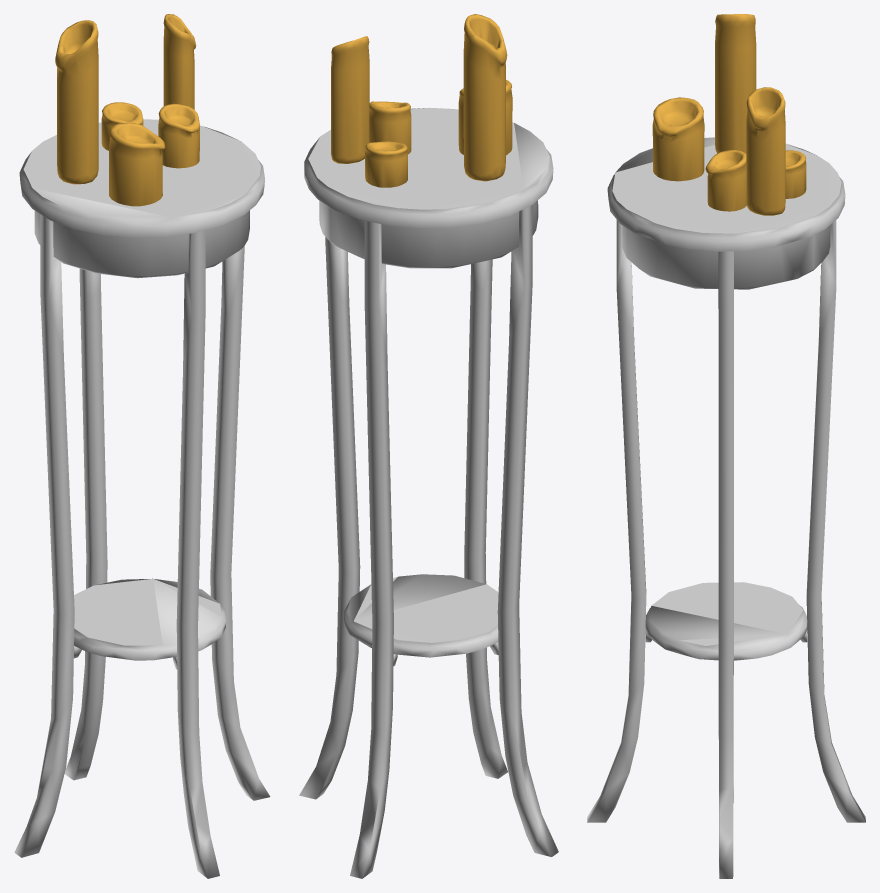
The model's file is PriesteraGalds.fbx.
The picture shows the model from 3 angles, left to right: view 1: azimuth 30°, elevation 25°; view 2: azimuth 150°, elevation 25°; view 3: azimuth 270°, elevation 25°; orthographic projection. The views are drawn at different scales.
Visible parts, largest first — view 1: Cube.005; view 2: Cube.005; view 3: Cube.005.
Part boxes in pixels (<box>): Cube.005: <box>14,14,270,878</box>; Cube.005: <box>299,14,558,878</box>; Cube.005: <box>587,14,865,878</box>.
Size of the model in its own units: 0.7128 by 2.22 by 0.7128.
